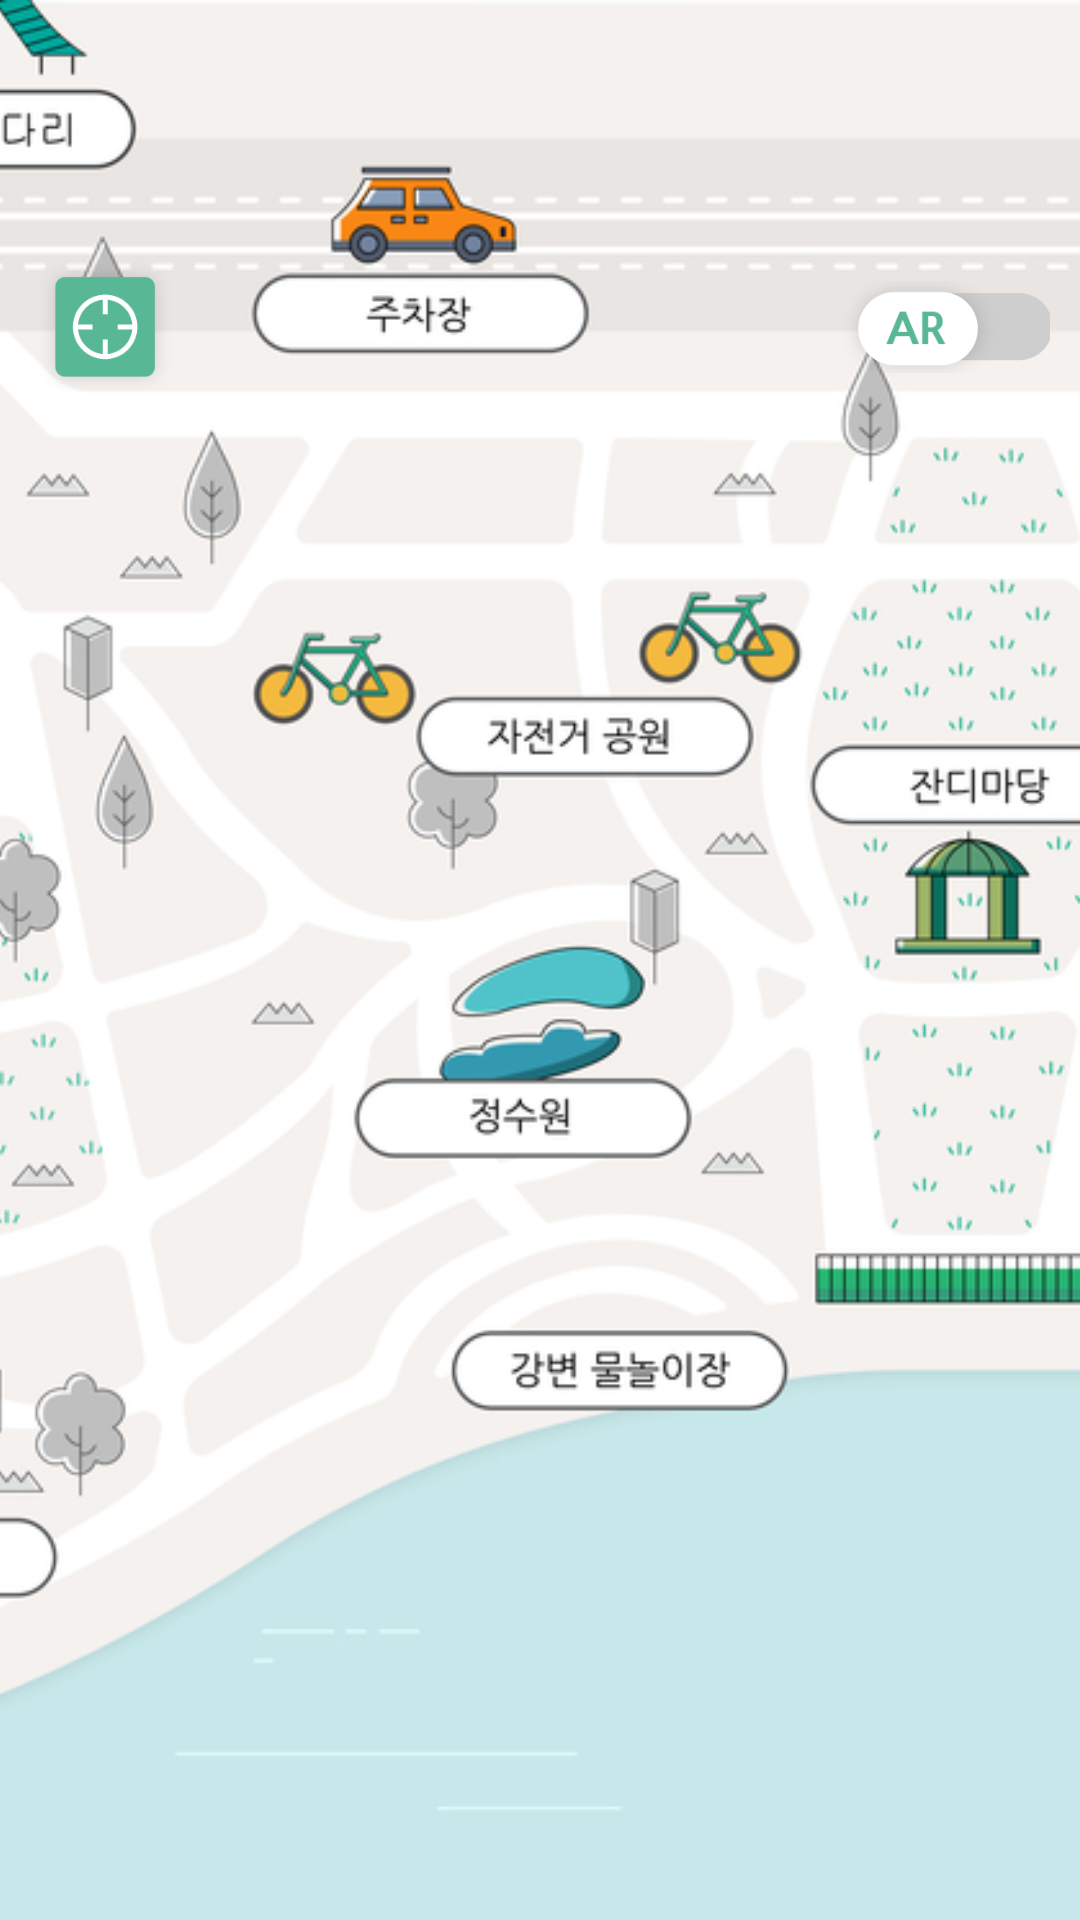

Where icons sit on this 1080*1920 app screen, as (x1, y1, x2, y2):
ar gps: (30, 252, 180, 385)
ar switch off: (840, 255, 1065, 402)
